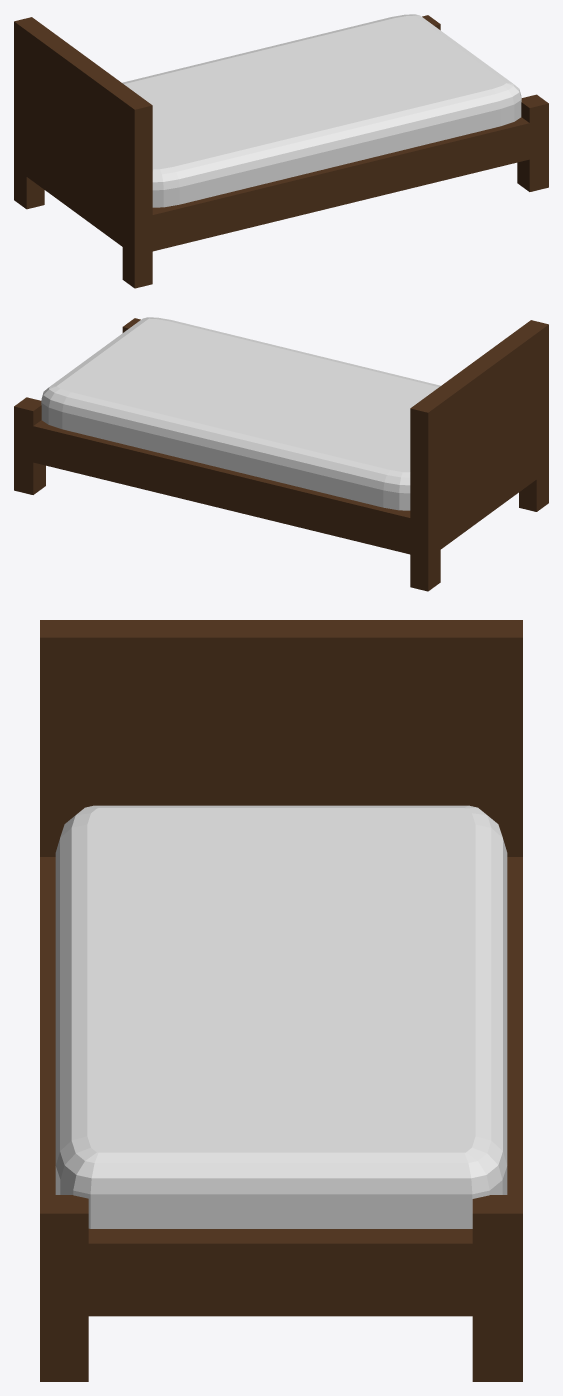
The model's file is Timmy's bed.fbx.
The picture shows the model from 3 angles, top to bottom: view 1: azimuth 30°, elevation 25°; view 2: azimuth 150°, elevation 25°; view 3: azimuth 270°, elevation 25°; orthographic projection. The views are drawn at different scales.
Parts seen in each view (by area): view 1: Mattress, BedFrame; view 2: Mattress, BedFrame; view 3: Mattress, BedFrame.
Part boxes in pixels (box(x1,y1,x2,y2)): Mattress: box(122, 14, 521, 207); BedFrame: box(14, 15, 548, 288); Mattress: box(41, 317, 440, 510); BedFrame: box(14, 318, 548, 591); Mattress: box(55, 805, 507, 1228); BedFrame: box(40, 620, 522, 1381).
Bounding box in the file's own units: 848 × 350 × 428.
